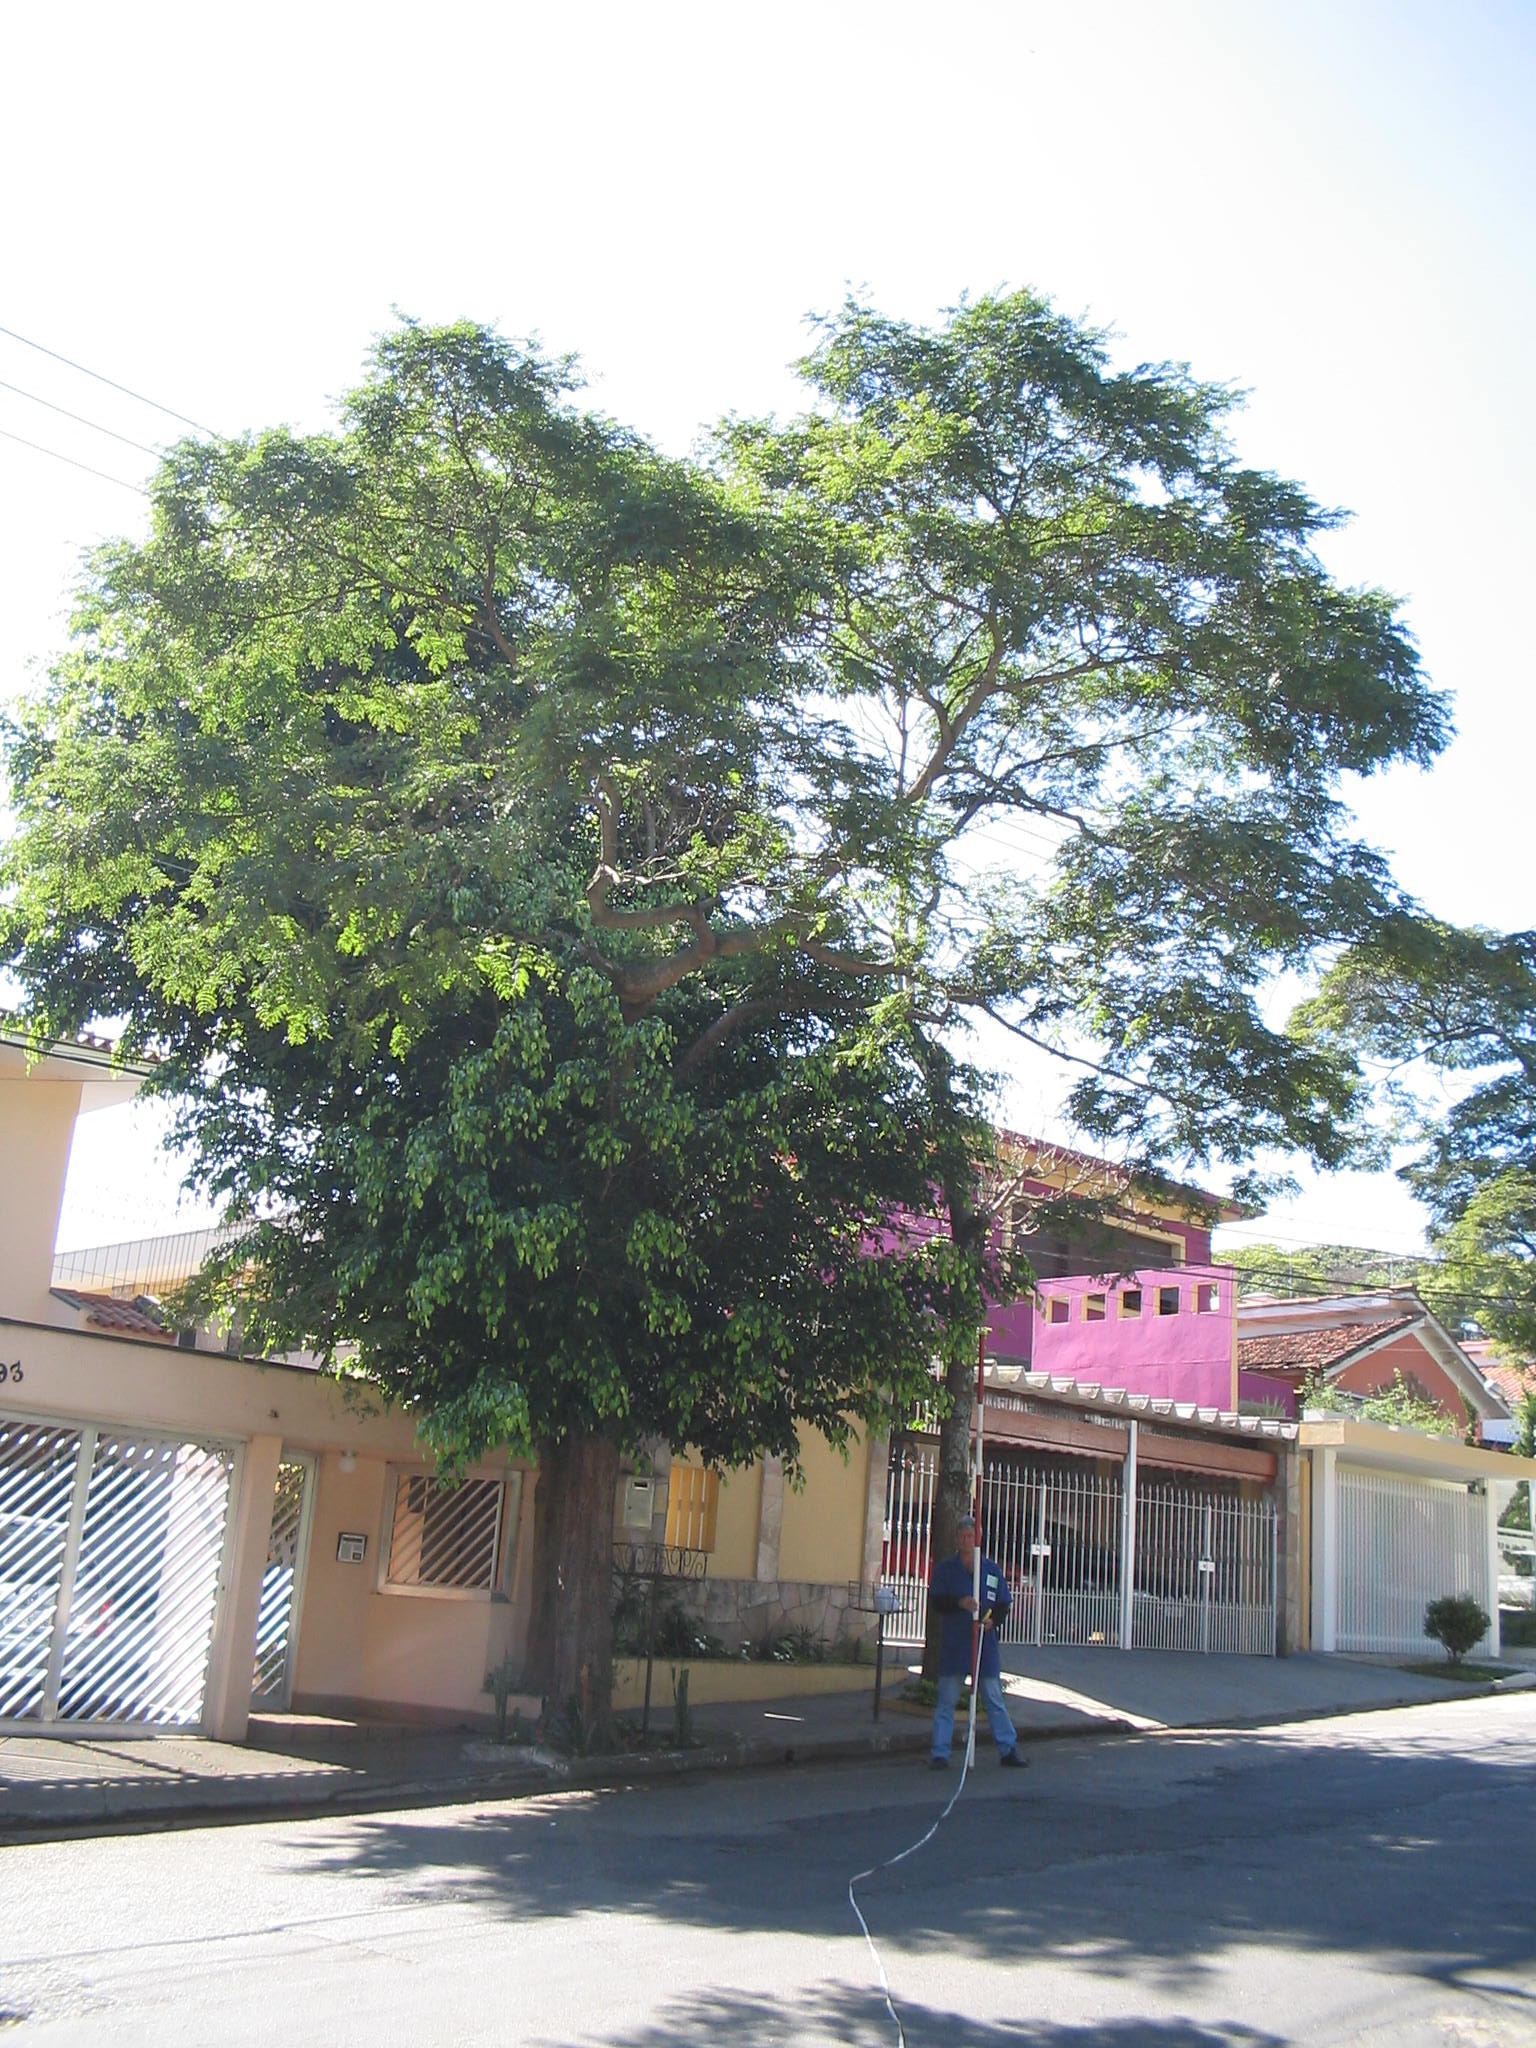crown: (11, 305, 916, 1476), (720, 290, 1533, 1258)
stem: (474, 1426, 686, 1755), (891, 1413, 991, 1713)
stick: (957, 1321, 995, 1774)
tree: (10, 303, 925, 1746), (715, 279, 1533, 1742)
